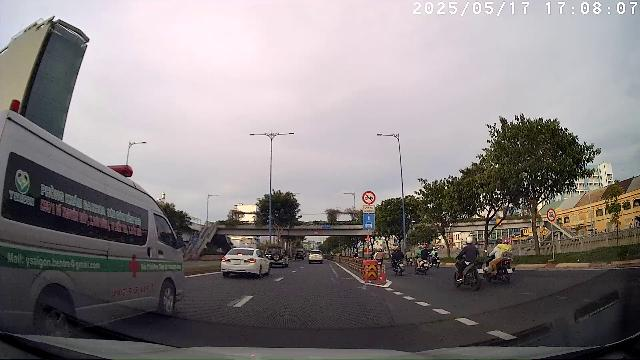103a-cam-oto: (546, 208, 556, 222)
